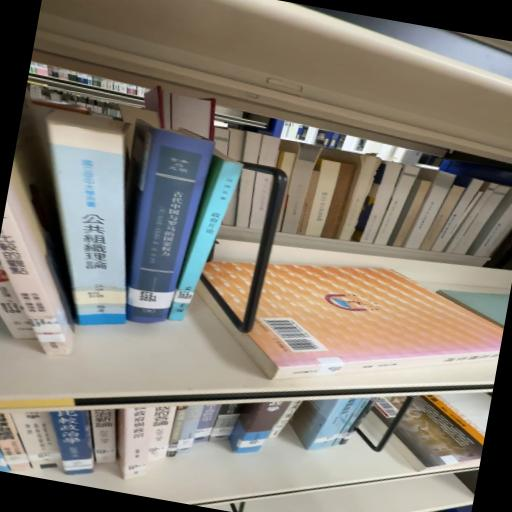flat: (233, 265, 504, 379), (198, 261, 254, 323)
